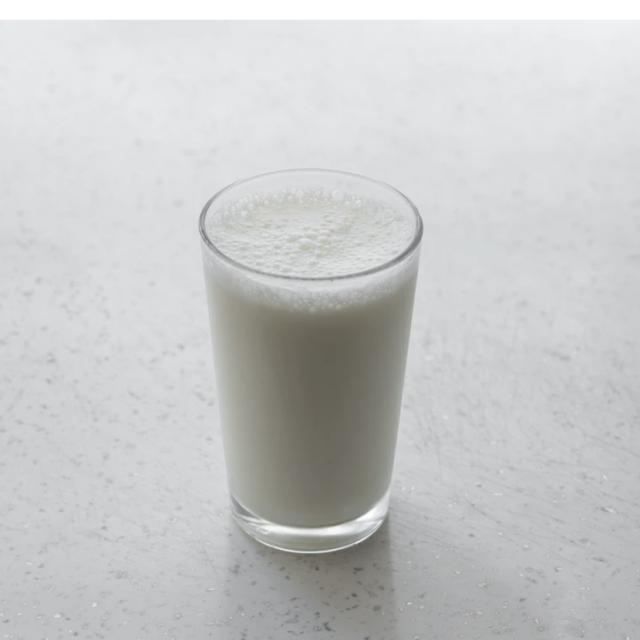recyclable: (178, 136, 433, 586)
